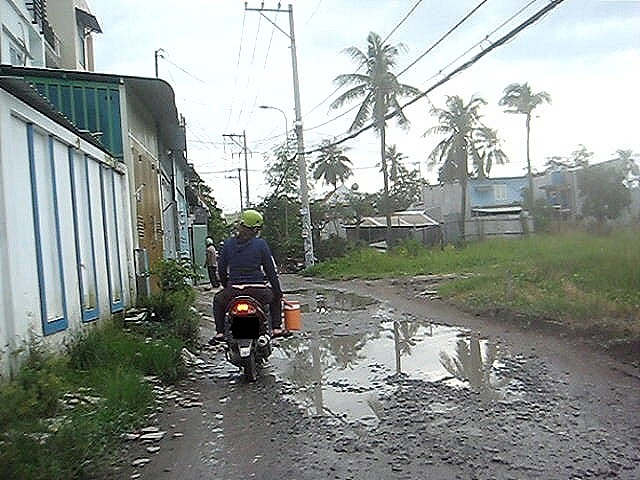hole: (303, 317, 563, 453), (302, 283, 400, 317)
